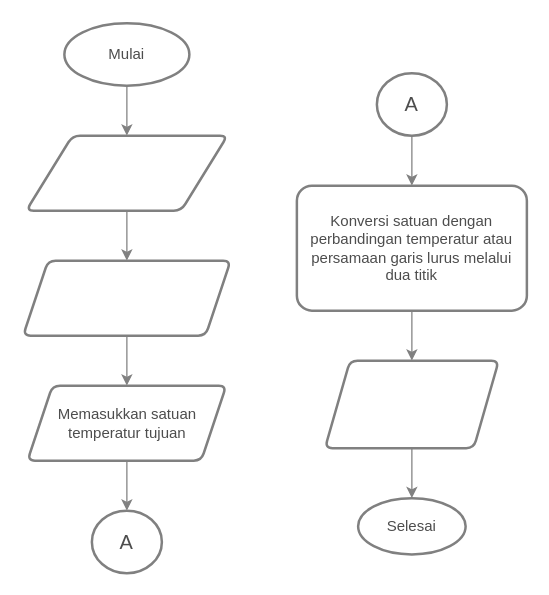
The diagram is 549 pixels wide and 595 high, and some of its shapes have lost their labels. The centre of each missing label's shape, as x and y in pixels:
"Hasil : temperatur dengan satuan baru" belongs at (x=411, y=404).
"Memasukkan besar temperatur yang ingin dikonversi" belongs at (x=126, y=297).
"Memasukkan satuan temperatur" belongs at (x=126, y=172).
